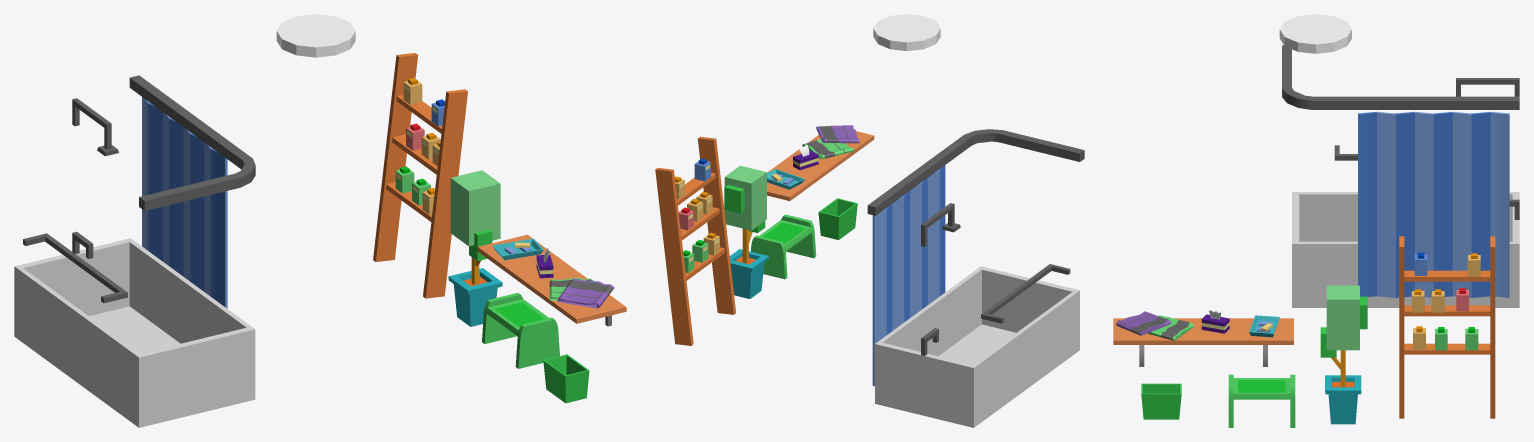
Rendered from BanosObjetos04.fbx.
The picture shows the model from 3 angles, left to right: view 1: azimuth 30°, elevation 25°; view 2: azimuth 150°, elevation 25°; view 3: azimuth 270°, elevation 25°; orthographic projection. The views are drawn at different scales.
Visible parts, largest first — view 1: BanosObjetos04; view 2: BanosObjetos04; view 3: BanosObjetos04.
Boxes of the visible parts, x1,y1,x2,y2 form: BanosObjetos04: (14, 14, 626, 427); BanosObjetos04: (655, 14, 1084, 427); BanosObjetos04: (1113, 14, 1519, 427).
Bounding box in the file's own units: 421 × 341 × 402.
